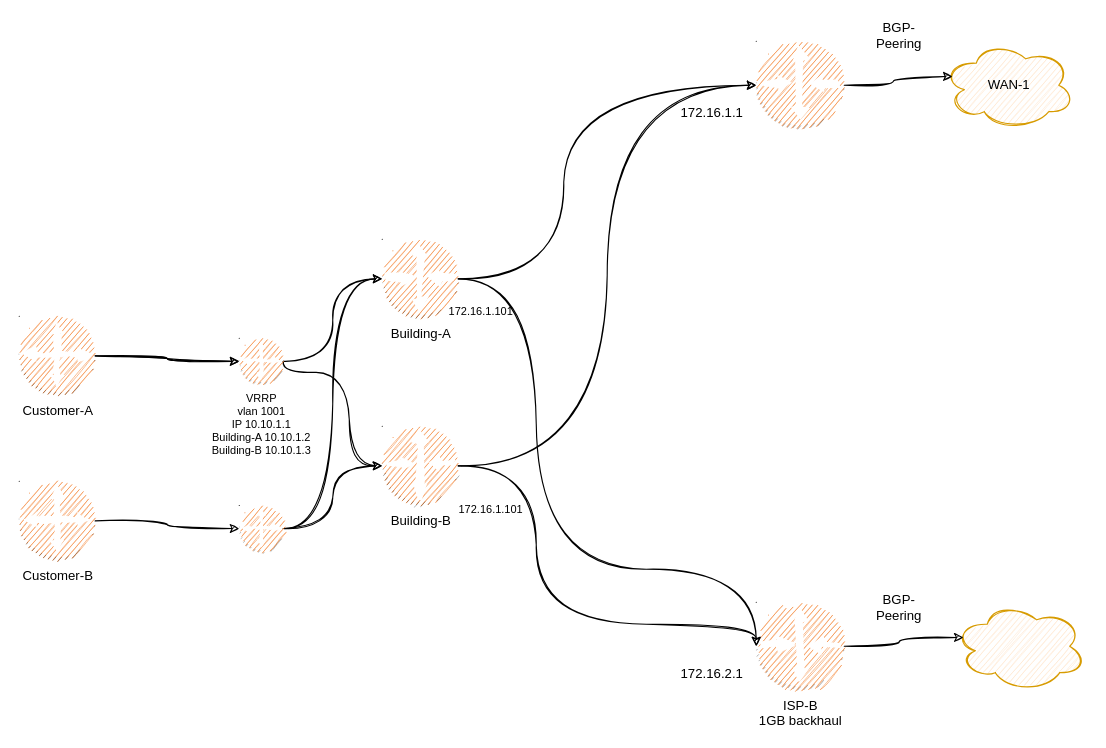
The diagram is 1106 pixels wide and 748 high, and some of its shapes have lost their labels. Each missing label, with the centre of its shape:
"ISP-A 10GB backhaul" goes at (x=799, y=84).
"VRRP vlan 1002 IP 10.20.1.1 Building-A 10.20.1.2 Building-B 10.20.1.3" goes at (x=260, y=528).
"WAN-2" goes at (x=1019, y=645).
